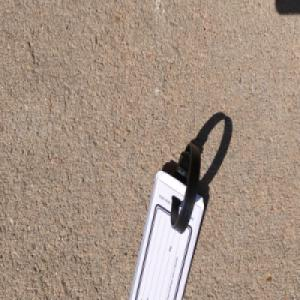LuggageTag: (127, 139, 207, 300)
